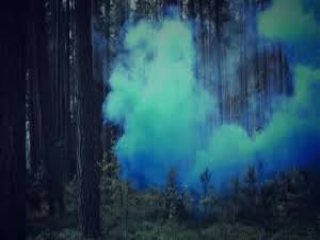smoke: (107, 20, 212, 186)
